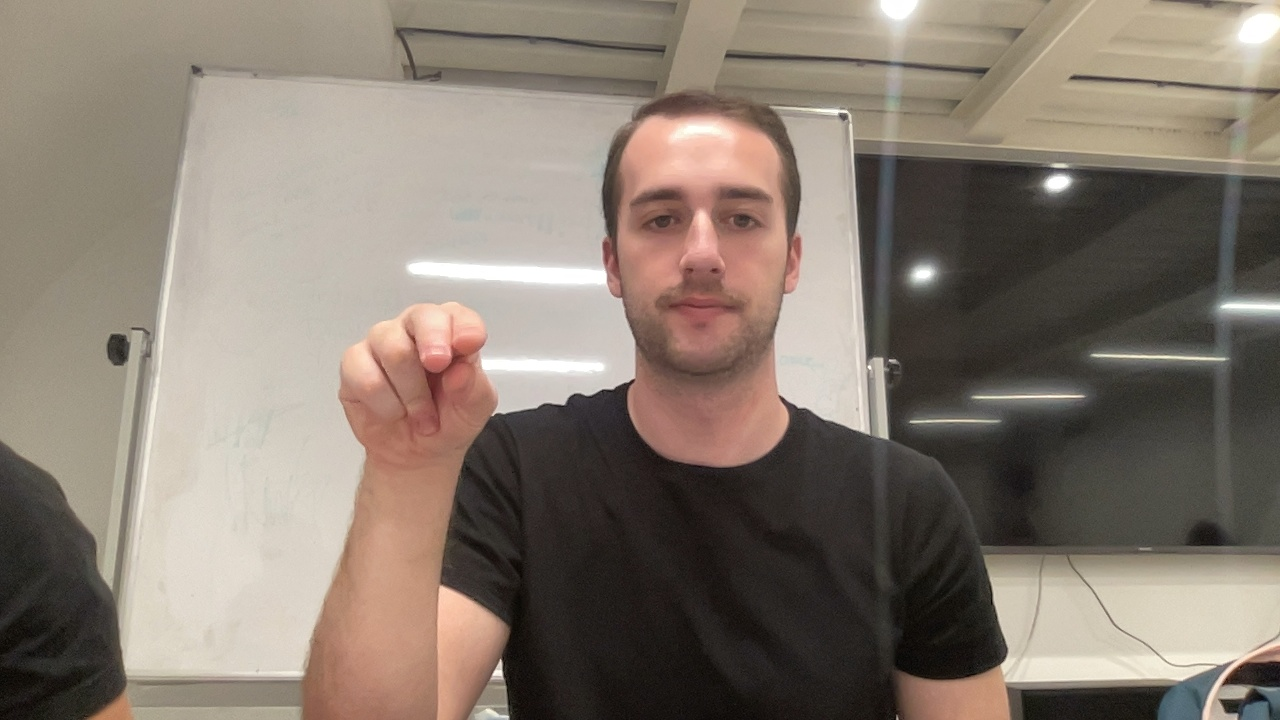No: (334, 298, 505, 475)
